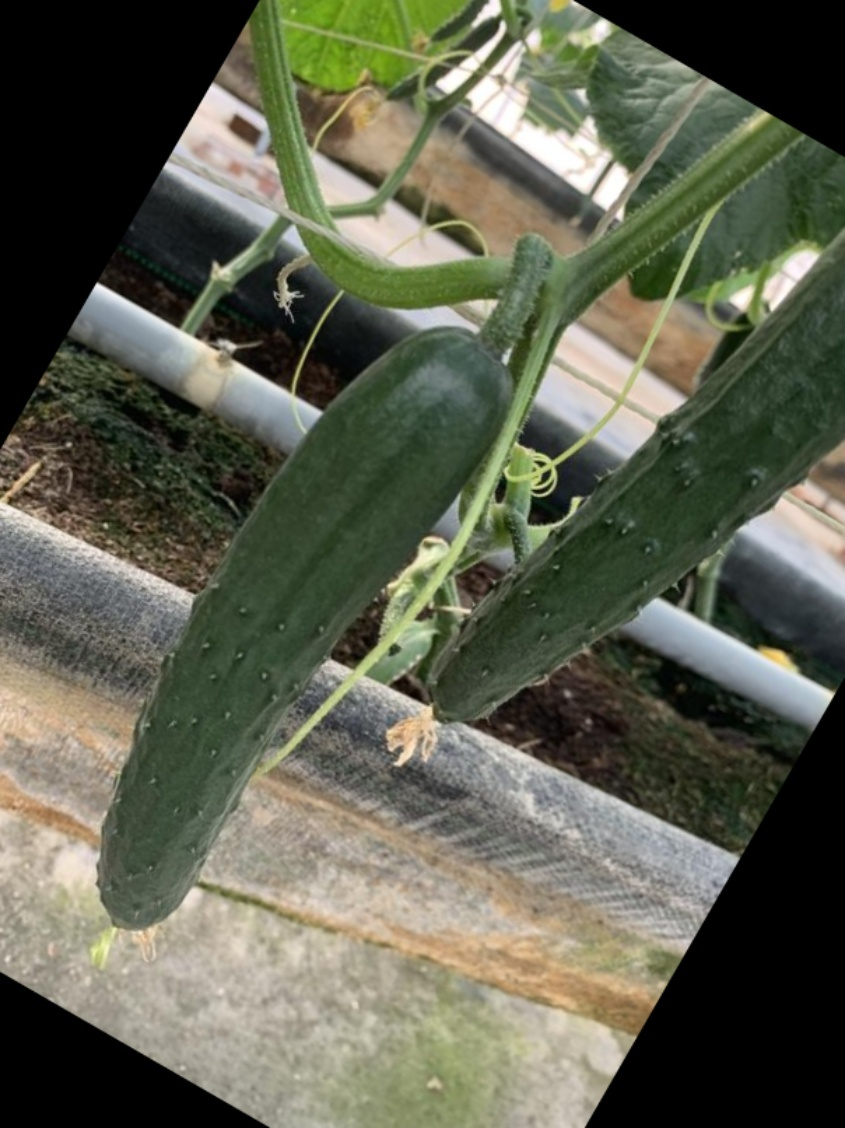mature: (451, 144, 837, 719)
